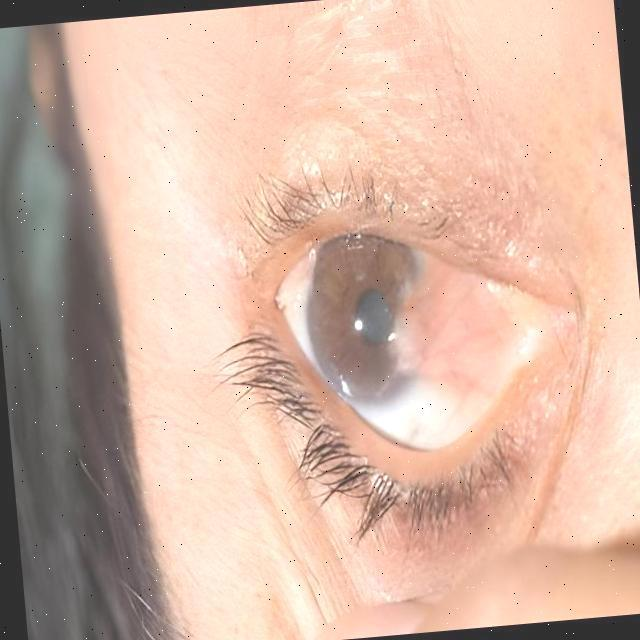Pterygium: (370, 228, 562, 428)
